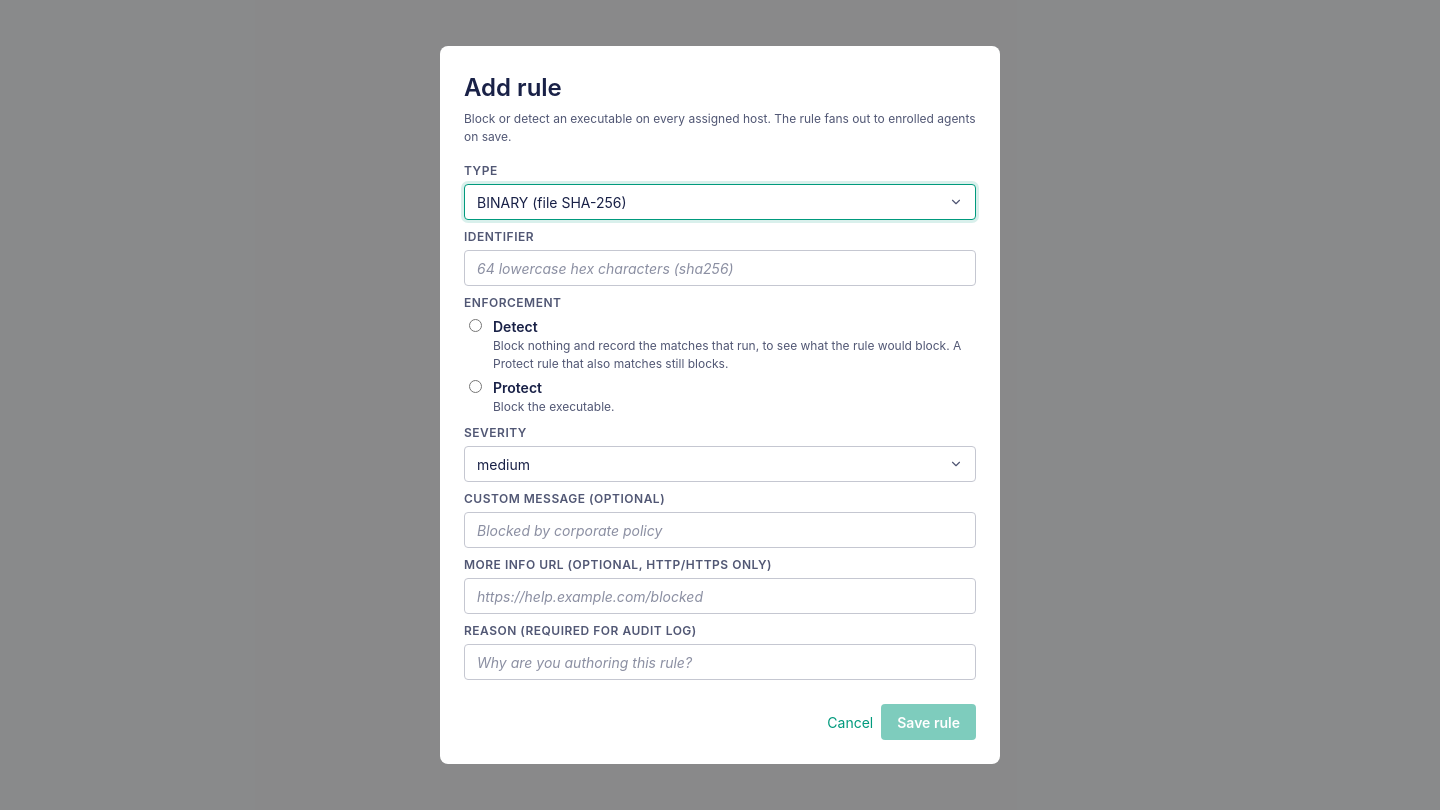
AddRuleModal › rejects a malformed SIGNINGID missing the colon
Select "SIGNINGID (Team:bundle.id)" in the dropdown labelled "Type": x=720, y=202 [464, 184, 976, 220]
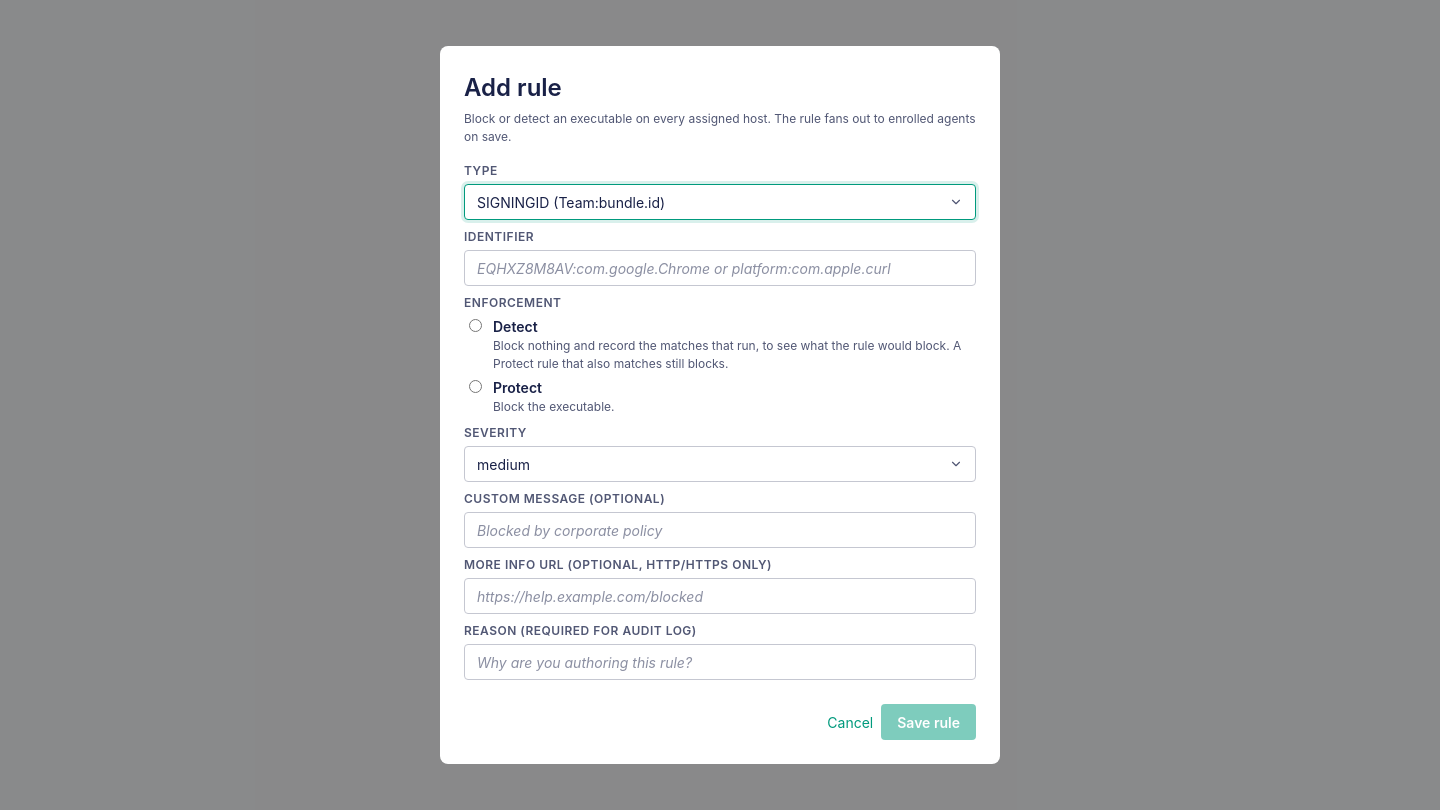
In the field labelled "Identifier": x=720, y=268 [464, 250, 976, 286], type "EQHXZ8M8AVcom.google.Chrome"
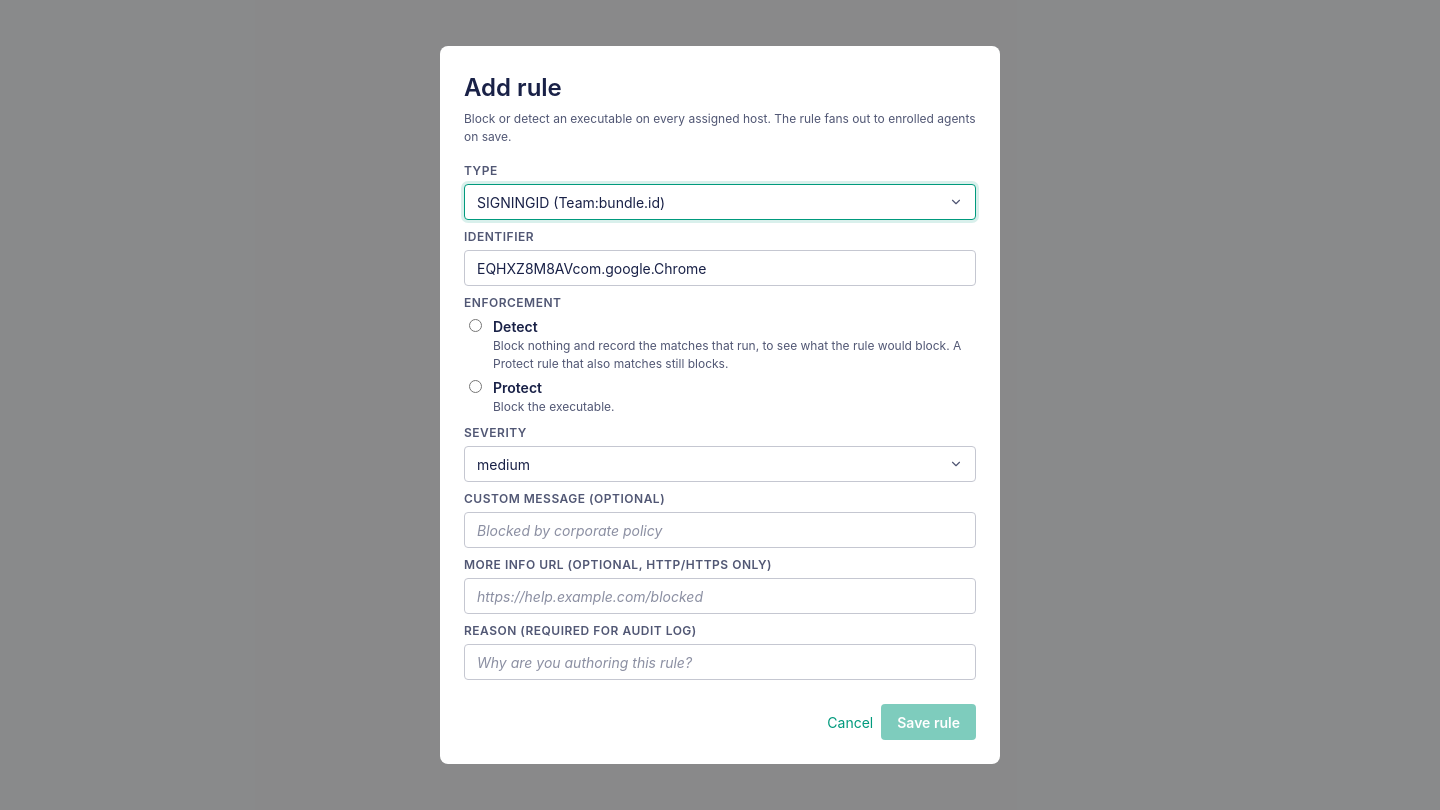
In the field labelled "Reason (required for audit log)": x=720, y=662 [464, 644, 976, 680], type "demo"
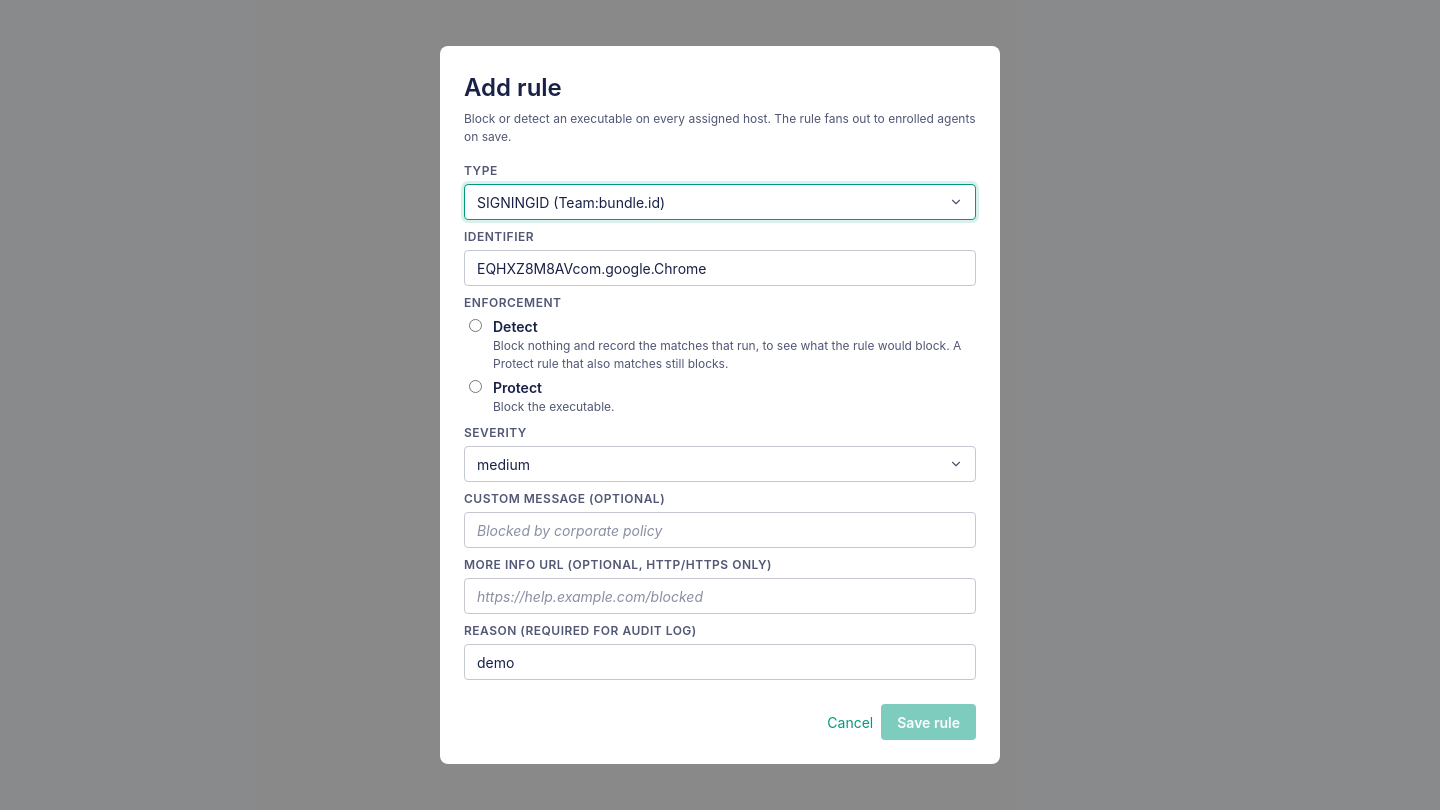
Click the radio button labelled "Protect": x=476, y=386 [469, 380, 482, 393]
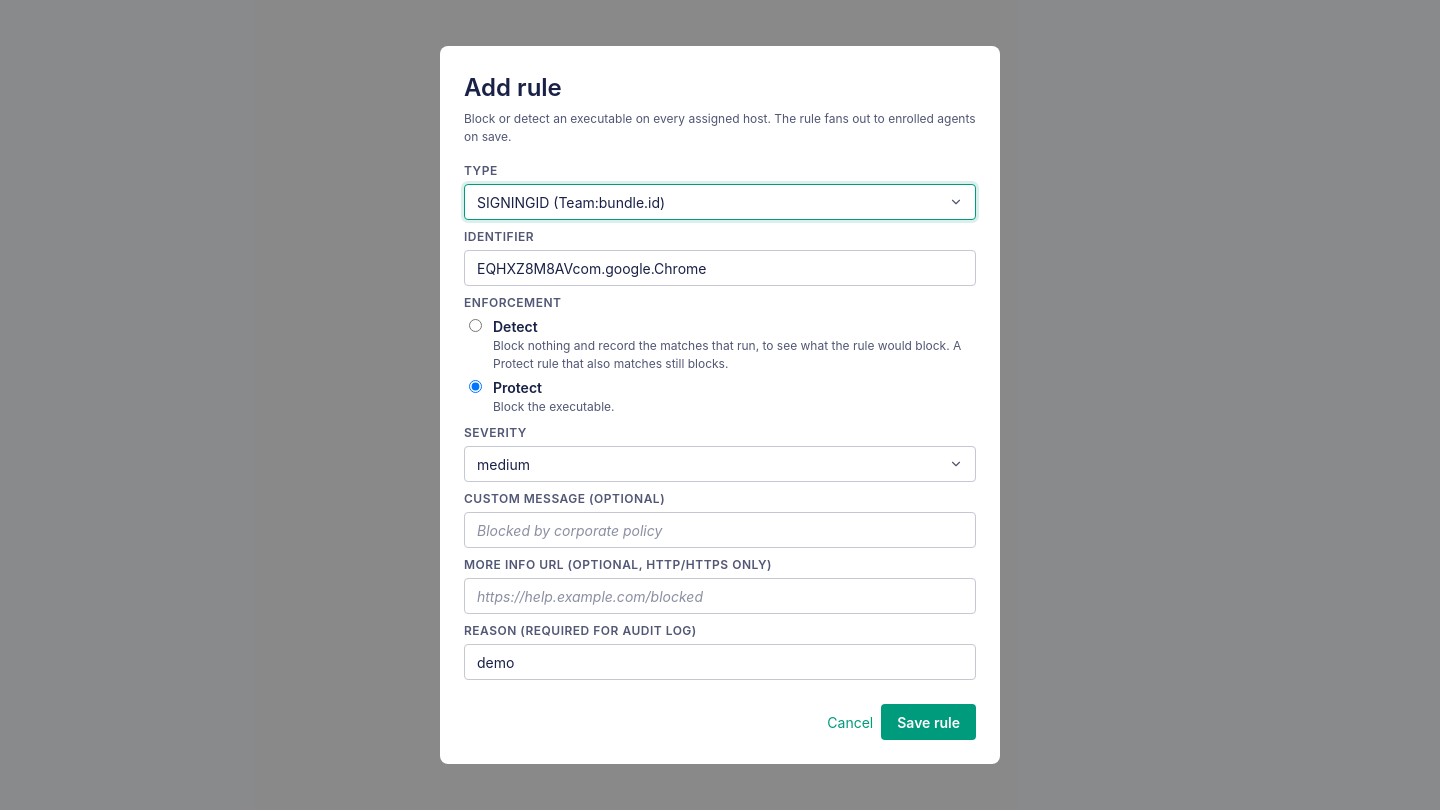
Click the button "Save rule": x=929, y=722 [881, 704, 976, 740]
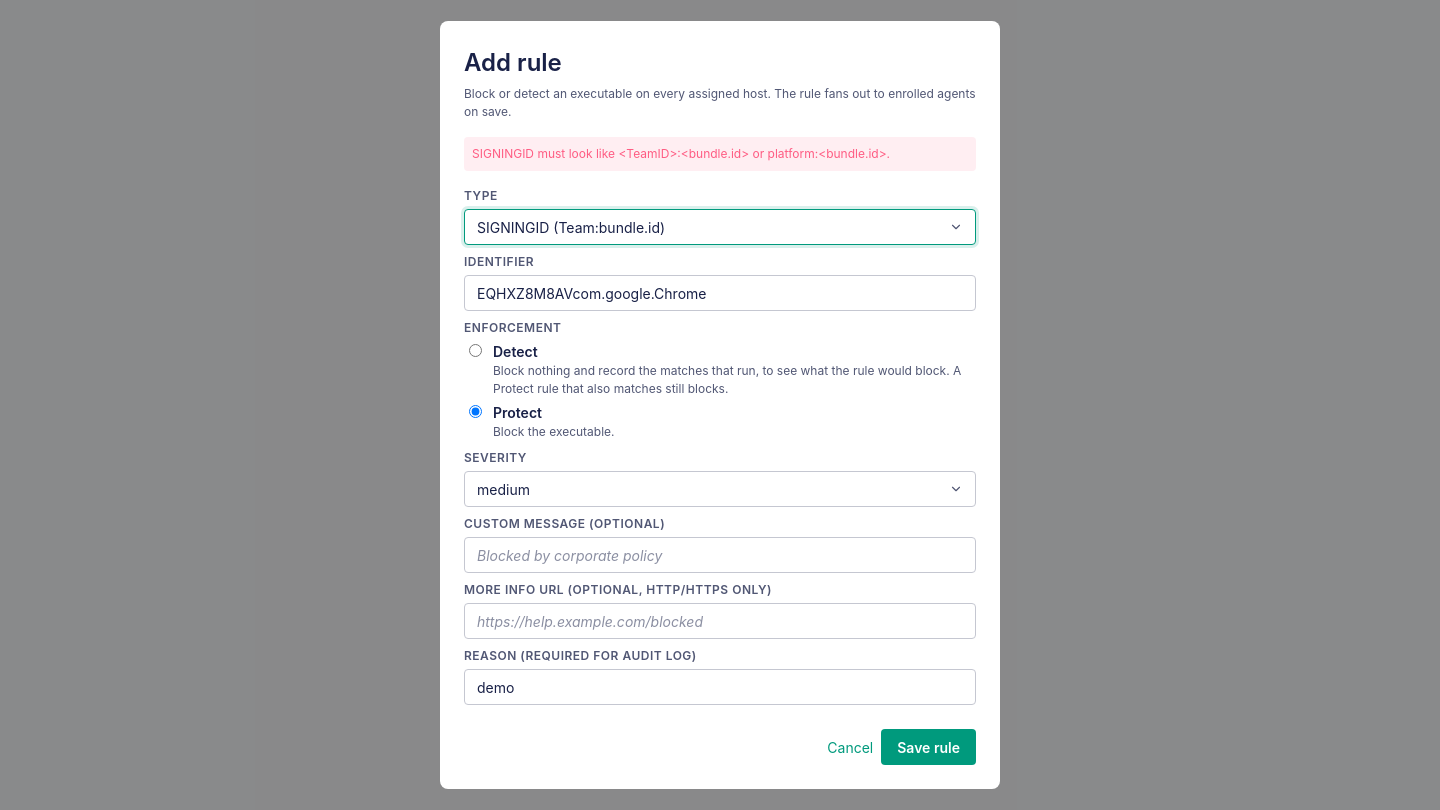
Result: the message shows "SIGNINGID must look like" at [472, 146, 890, 161]
